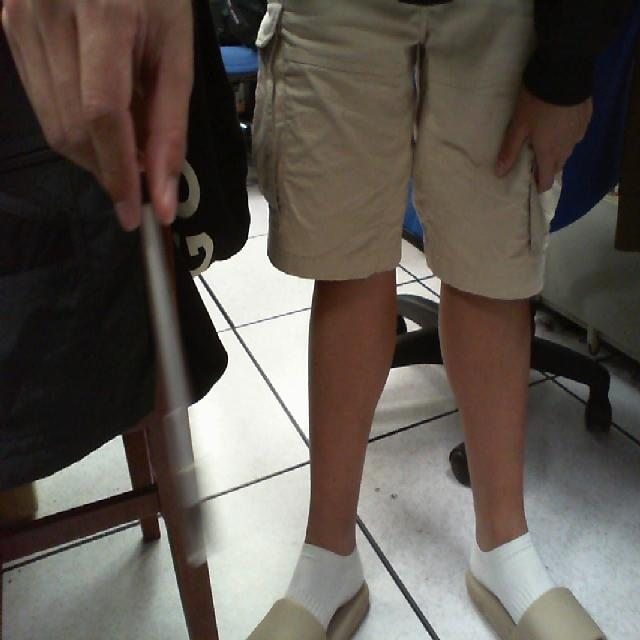Pen: (102, 193, 229, 592)
